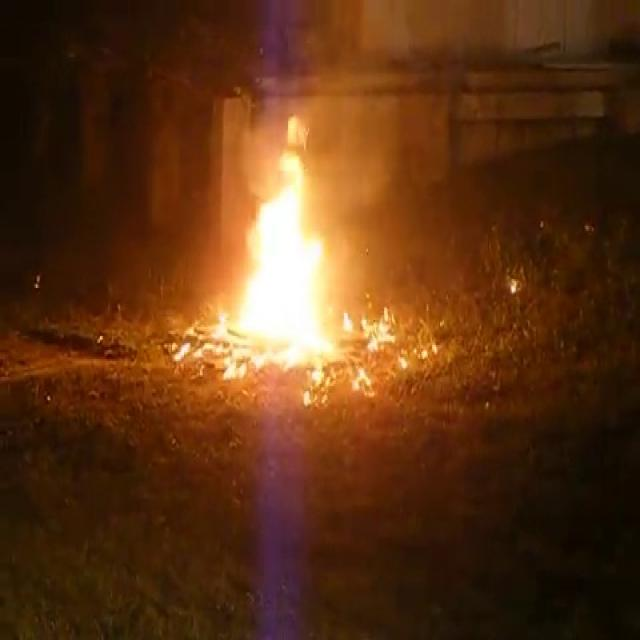Fire: (215, 114, 354, 372)
